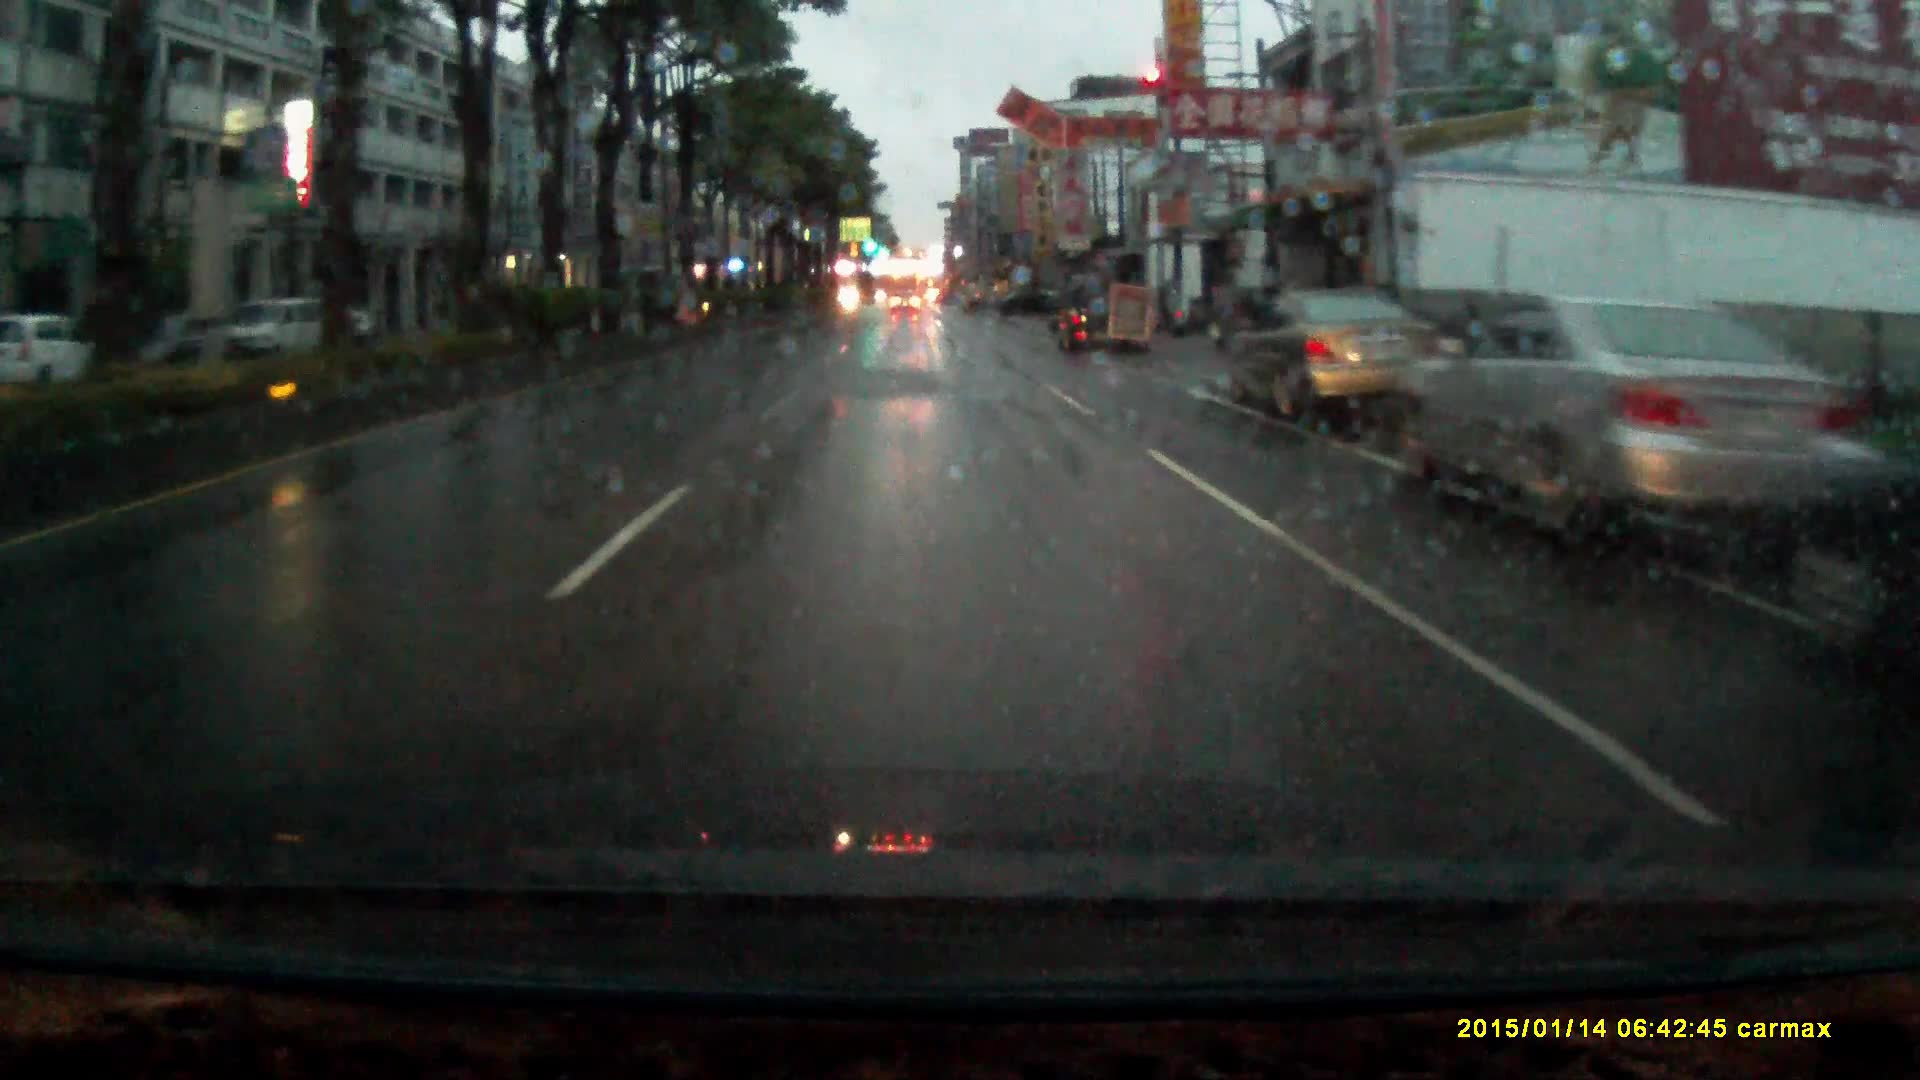vehicle: (1387, 295, 1783, 545), (1228, 285, 1441, 411), (202, 297, 345, 363), (1058, 276, 1145, 352), (890, 285, 920, 315)
